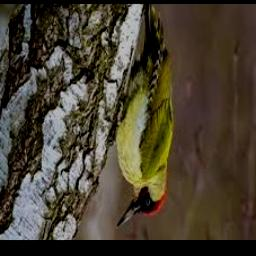Woodpecker: (106, 4, 175, 227)
